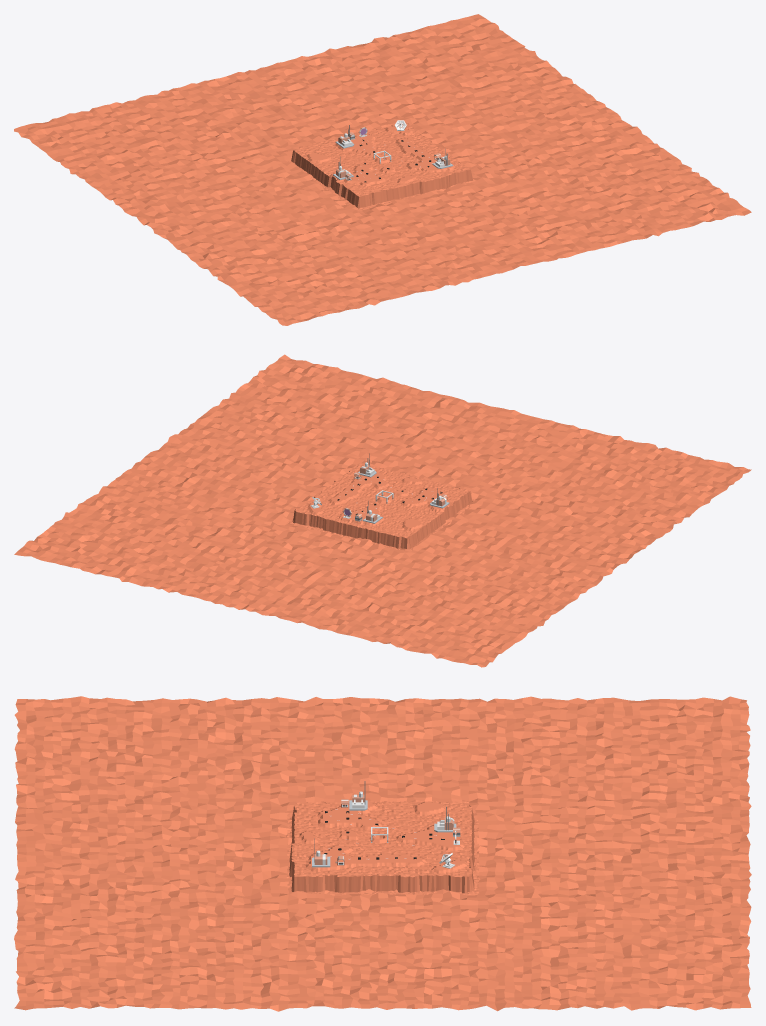
The model's file is map.glb.
3 renders of one model, top to bottom at view 1: azimuth 30°, elevation 25°; view 2: azimuth 150°, elevation 25°; view 3: azimuth 270°, elevation 25°, orthographic. The views are drawn at different scales.
Parts seen in each view (by area): view 1: Plane.001, Plane; view 2: Plane.001, Plane; view 3: Plane.001, Plane.
Part boxes in pixels (x1,y1,x2,y2): Plane.001: (14, 14, 751, 325); Plane: (286, 122, 477, 210); Plane.001: (14, 354, 751, 667); Plane: (286, 463, 476, 550); Plane.001: (14, 696, 751, 1011); Plane: (286, 801, 479, 894).
Size of the model in its own units: 266 by 17.63 by 267.
90 materials, 2 textured.
